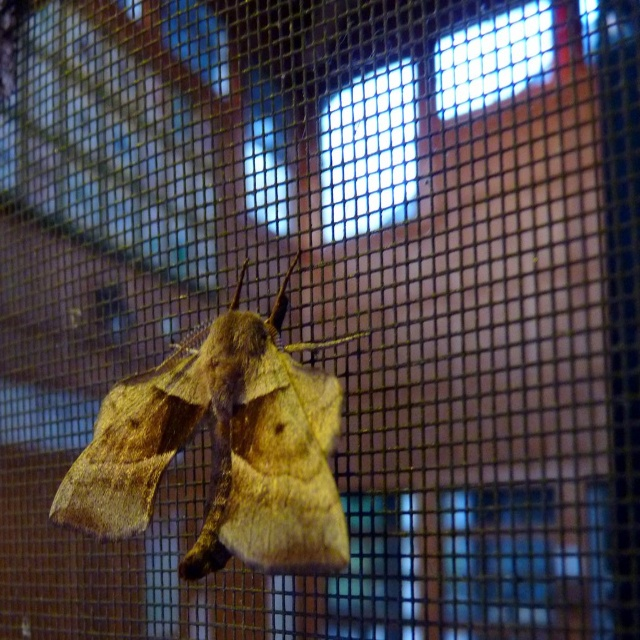Moths and butterflies: (49, 255, 369, 584)
